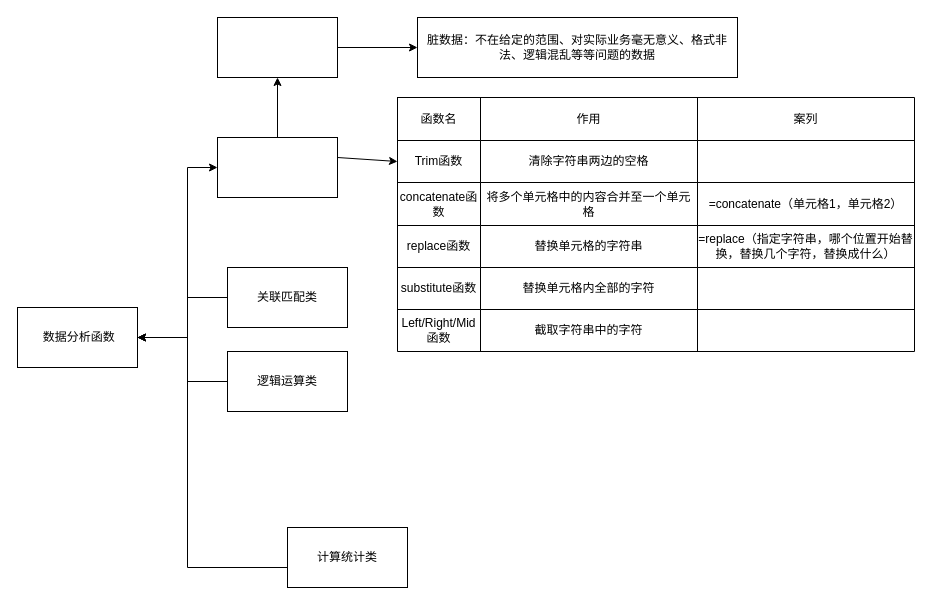
Image size: 932x605. Some labels were removed from this diagram. The shapes that lost their labels are listed below. From the top down, each one's centre as x and y in pixels, then its label:
pixel 277 47: 主要是文本、格式以及脏数据的清洗和转换
pixel 277 167: 清洁数据类
